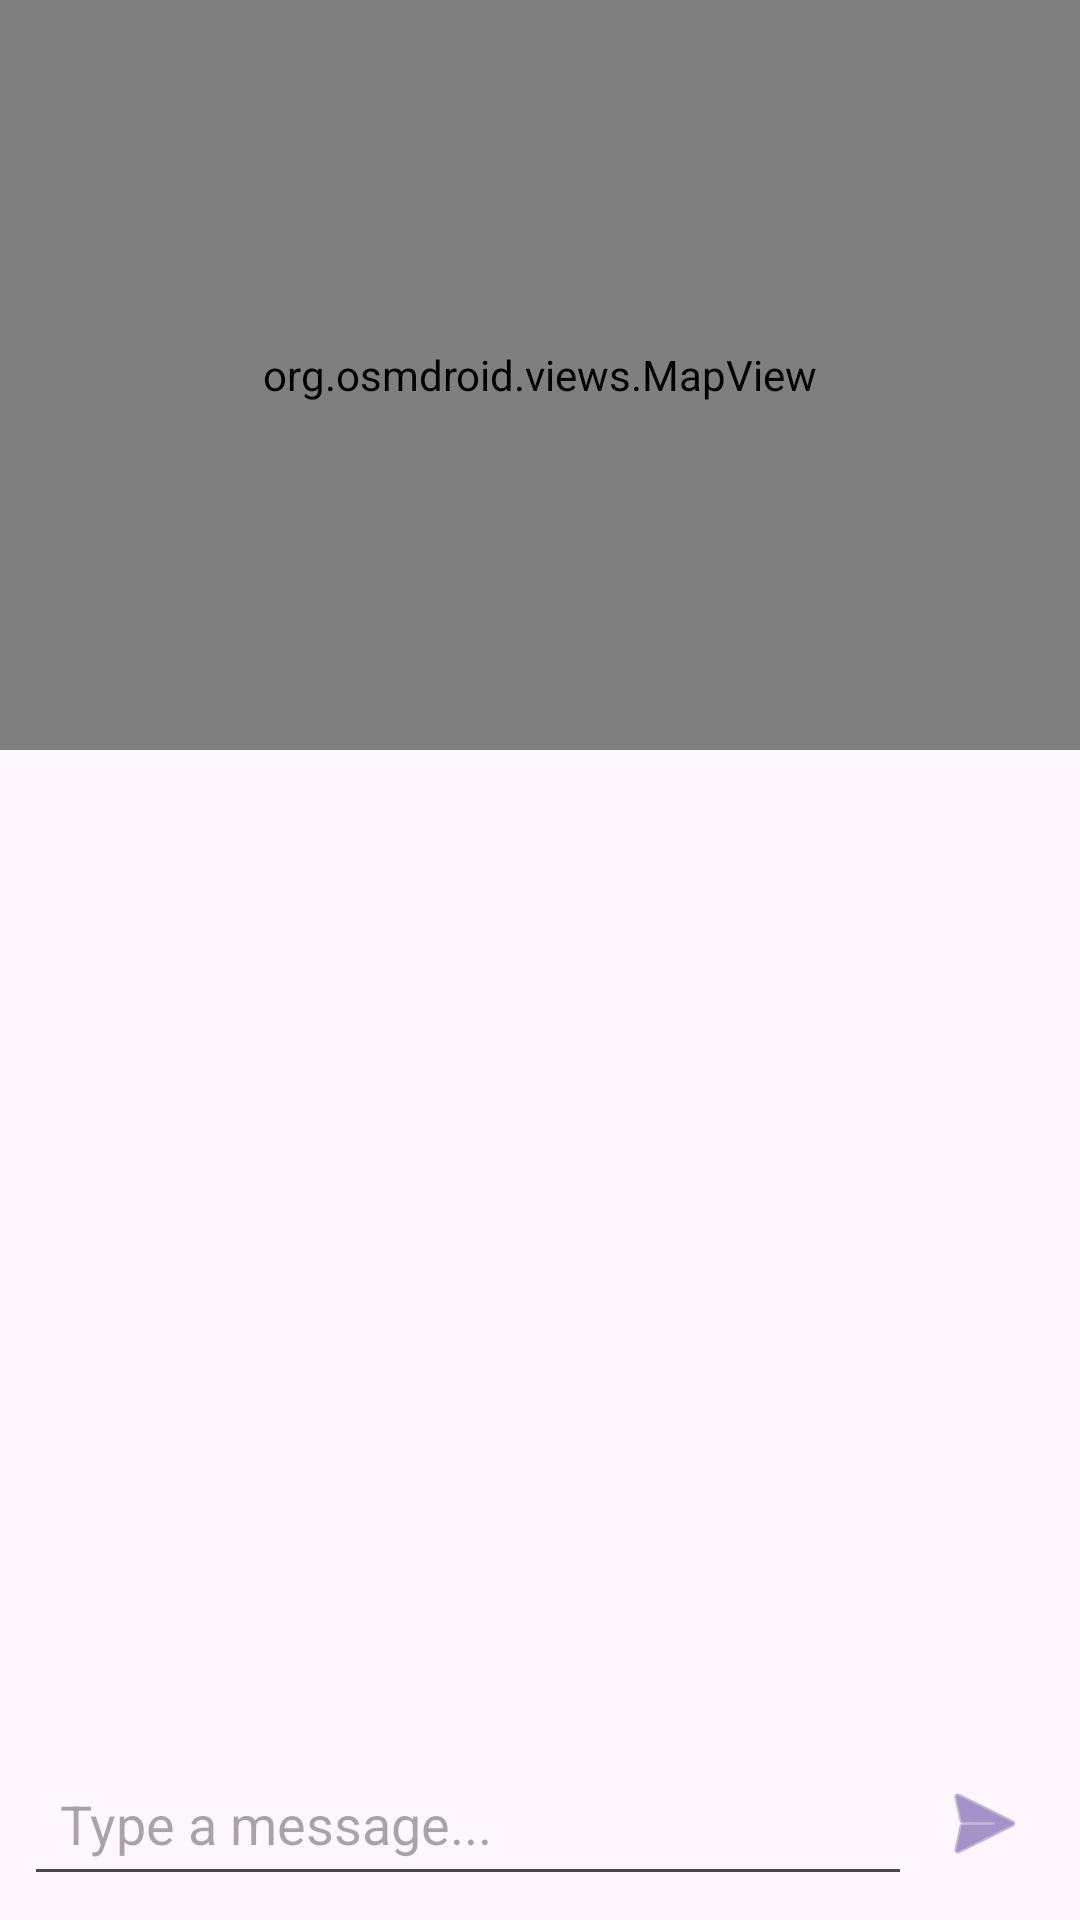

Named icons in this screenshot (1080px x 1920px) and their bounding boxes, (x1, y1, x2, y2):
Send Message: (954, 1793, 1015, 1854)
